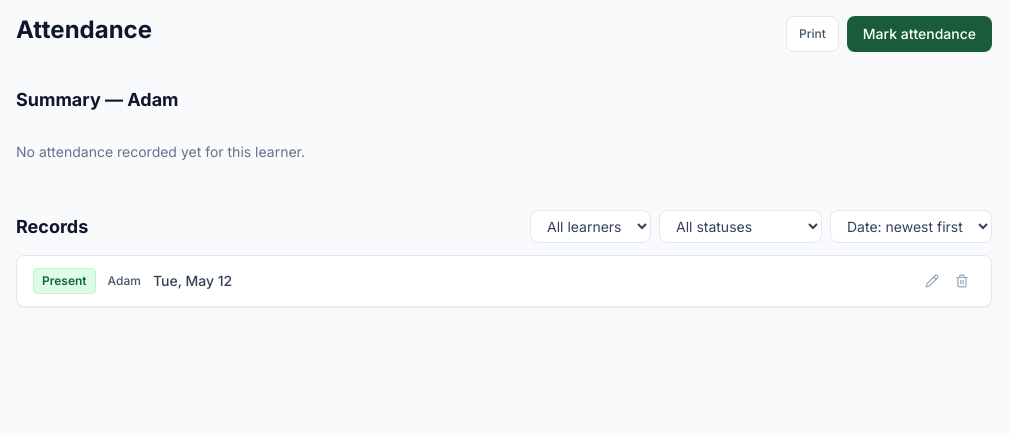
it: AttendancePage › Void icon button does not archive when inline cancel is clicked
The image size is (1009, 436).
Click the button named "void record". click: (962, 281)
box: [949,268,975,294]
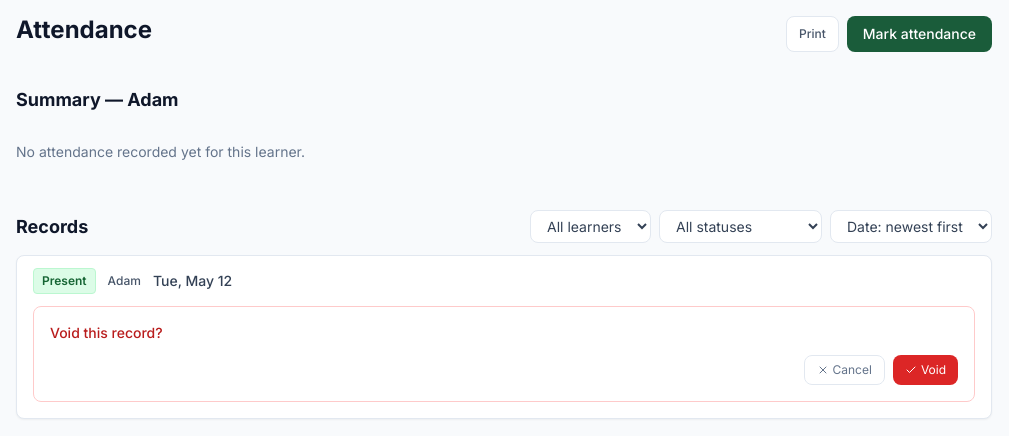
expect the button "Cancel" is shown: met
Click the button "Cancel". click: (844, 370)
box: [804,355,885,385]
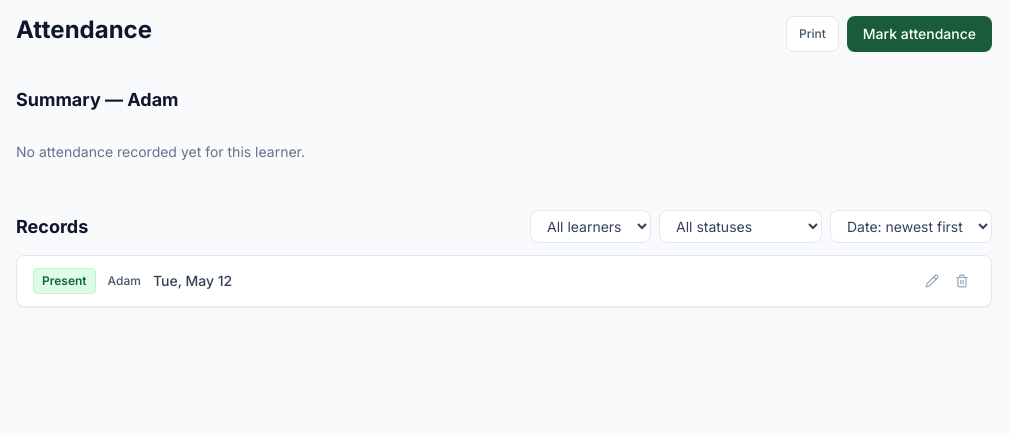
expect the button named "void record" is shown: met, box [949,268,975,294]
